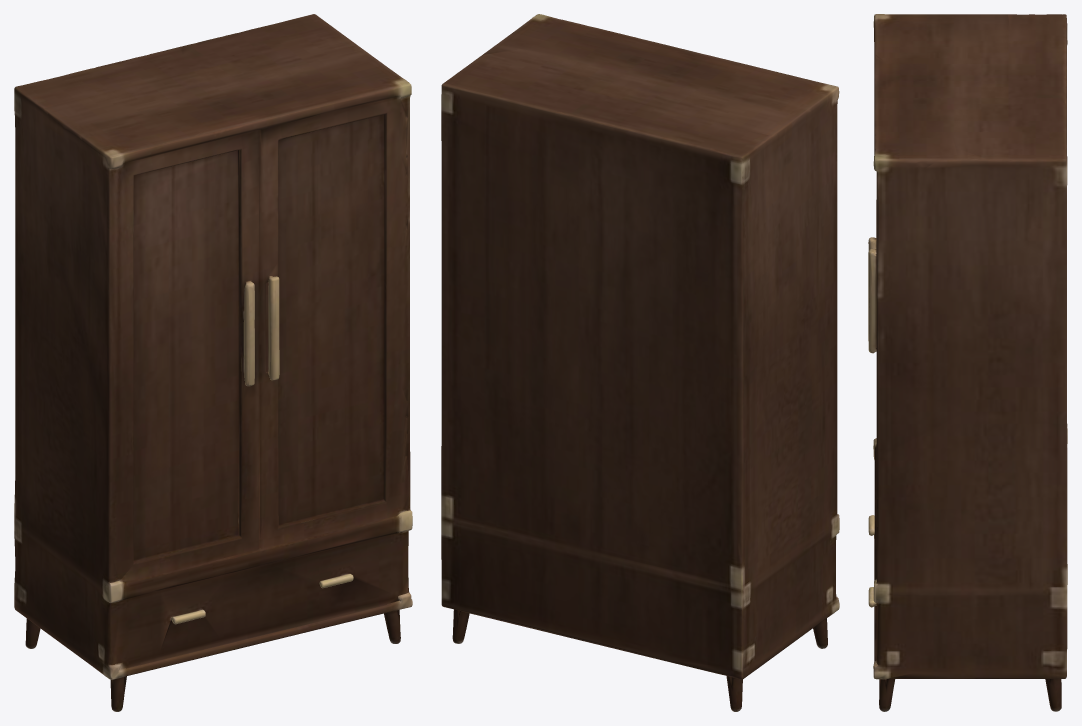
File: wardrobe.glb
3 views of the same model, side by side, from view 1: azimuth 30°, elevation 25°; view 2: azimuth 150°, elevation 25°; view 3: azimuth 270°, elevation 25° (orthographic).
Parts seen in each view (by area): view 1: world; view 2: world; view 3: world.
Part boxes in pixels (x1=…): world: x1=14, y1=14, x2=412, y2=711; world: x1=441, y1=14, x2=839, y2=711; world: x1=868, y1=14, x2=1067, y2=711.
Bounding box in the file's own units: 0.5676 × 1 × 0.3254.
1 material, 1 textured.
